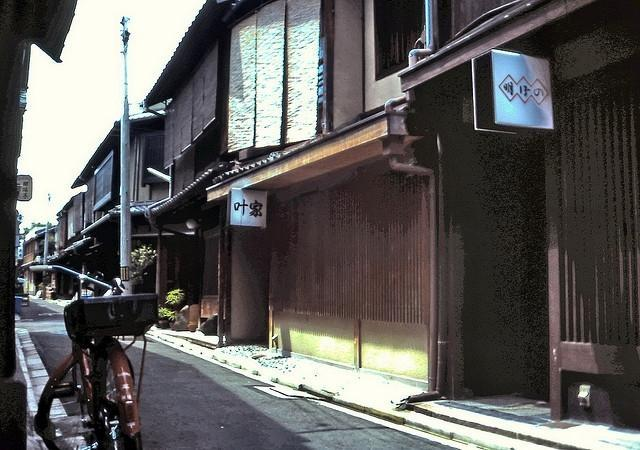bicycle: (43, 286, 140, 450)
